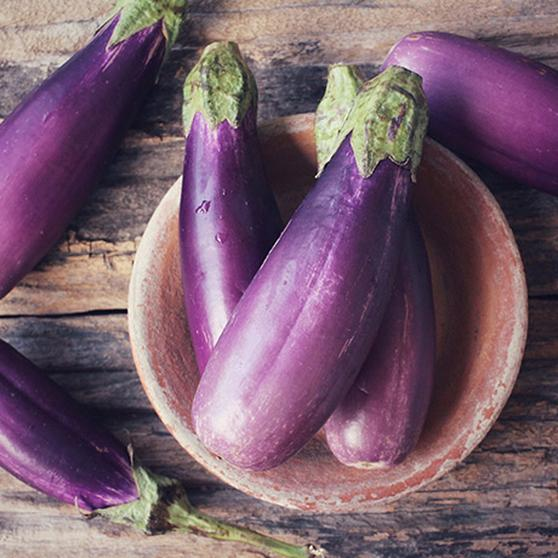eggplant: (200, 72, 430, 464), (2, 9, 196, 320)
